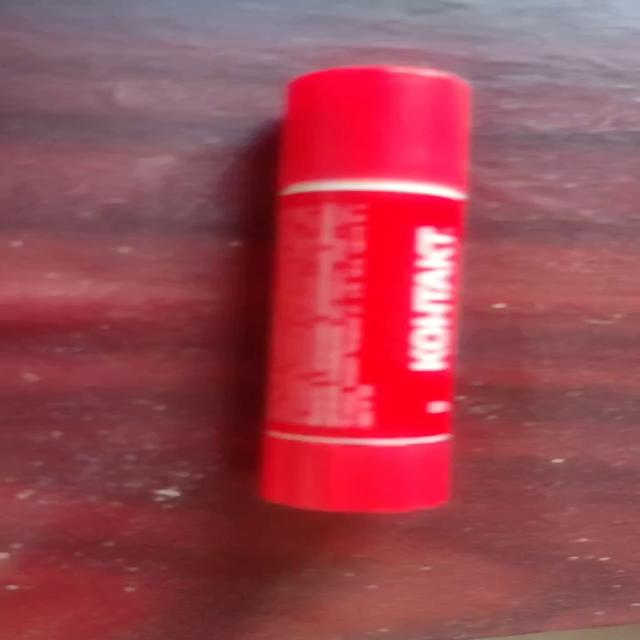glue: (258, 64, 473, 514)
